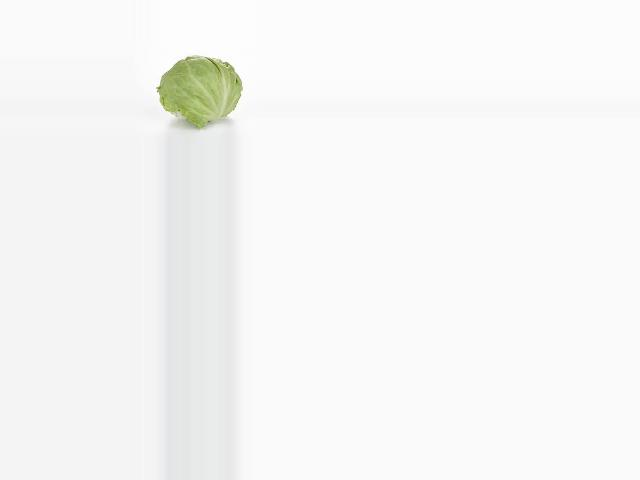lettuce: (154, 54, 247, 118)
